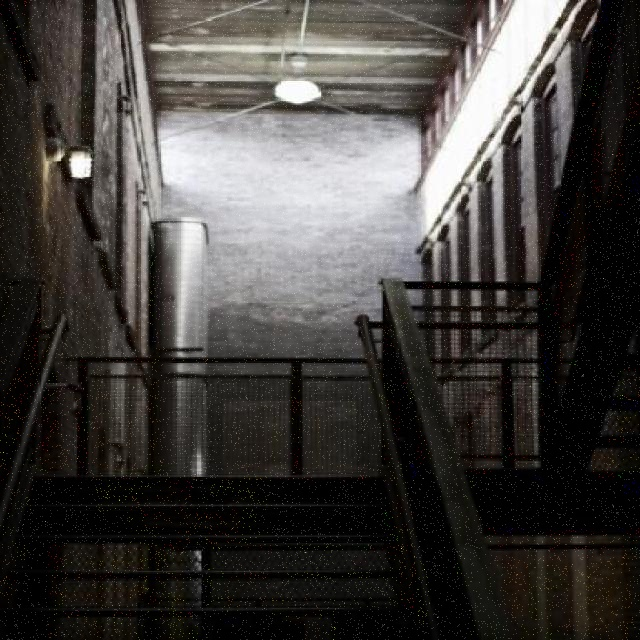stair: (0, 468, 429, 638)
